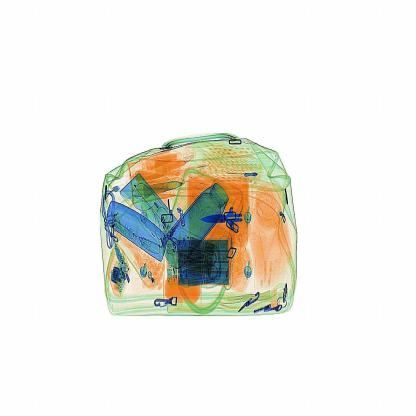gun: (192, 200, 257, 236)
